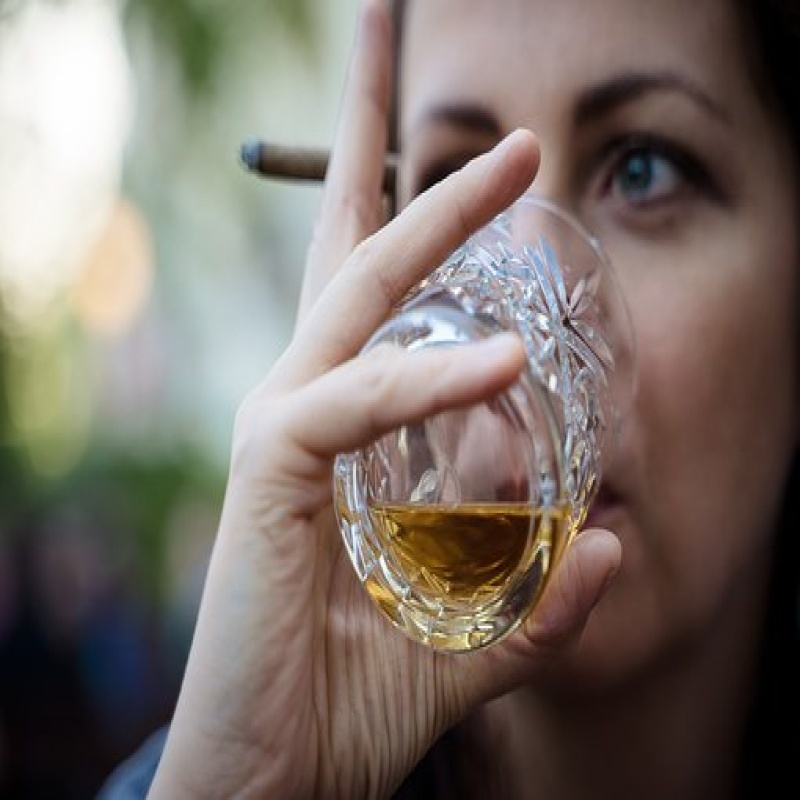whiskey: (318, 169, 619, 637)
